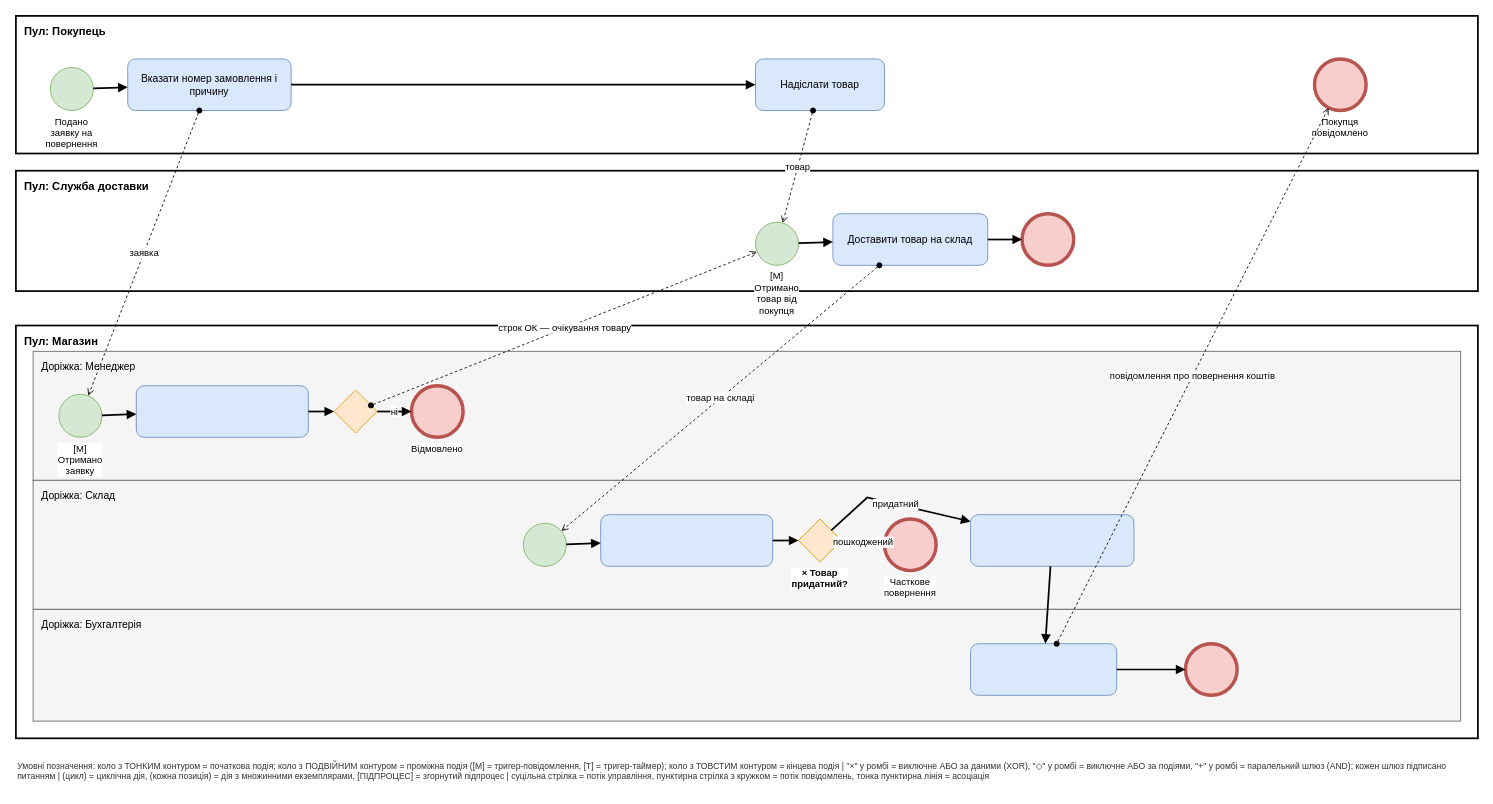
The diagram is 1493 pixels wide and 804 high, and some of its shapes have lost their labels. Each missing label, with the centre of its shape:
[M] Отримано товар зі складу доставки: the point at 544,544
× Строк дотримано?: the point at 355,411
Кошти повернуто: the point at 1210,669
Перевірити комплектність і стан: the point at 686,540
Перевірити строк 14 днів і підстави: the point at 221,411
Повернути кошти: the point at 1043,669
Повернути одиницю на залишок: the point at 1052,540
Товар передано складу: the point at 1047,239
